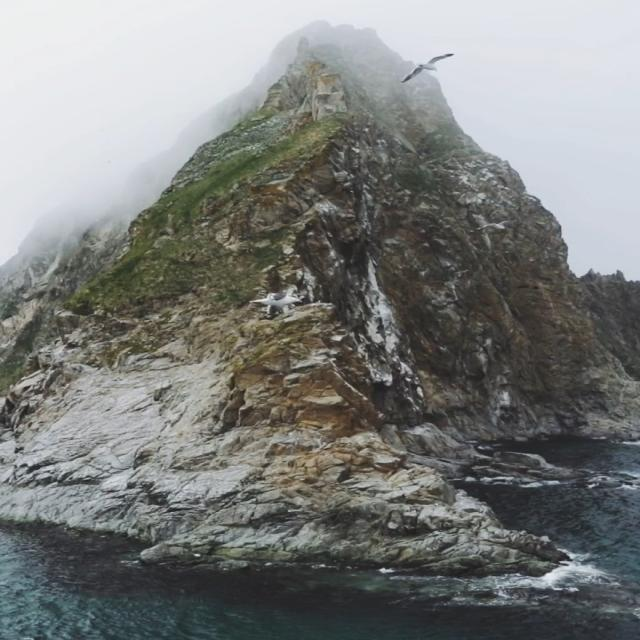bird: (389, 42, 462, 88), (242, 283, 306, 320)
